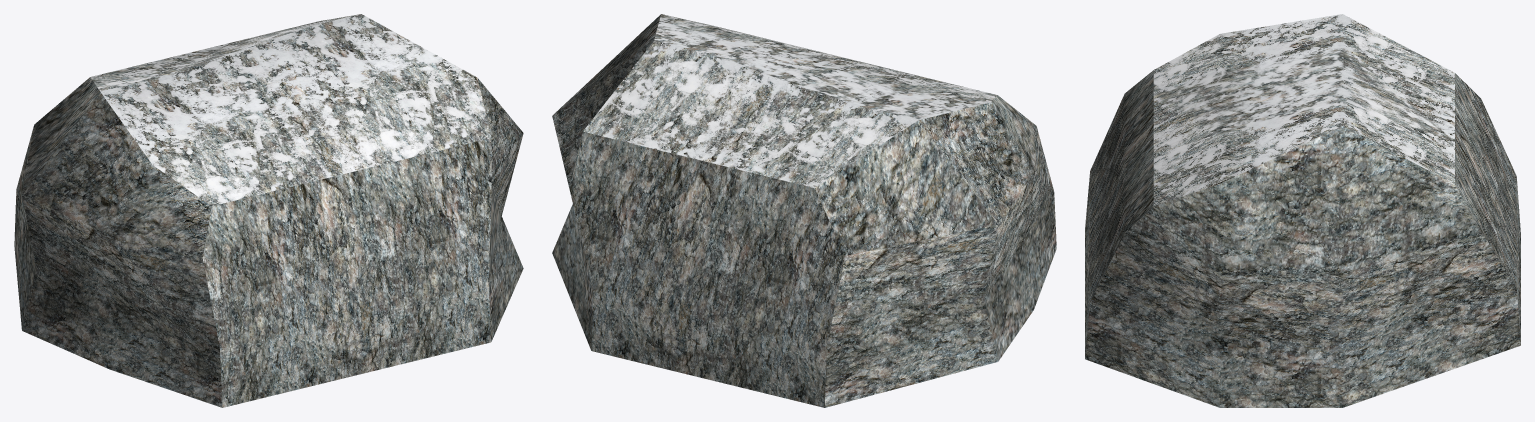
Rendered from rocks-mountain-2.FBX.
The picture shows the model from 3 angles, left to right: view 1: azimuth 30°, elevation 25°; view 2: azimuth 150°, elevation 25°; view 3: azimuth 270°, elevation 25°; orthographic projection.
Parts seen in each view (by area): view 1: Box02; view 2: Box02; view 3: Box02.
Part boxes in pixels (<box>): Box02: <box>14,14,523,407</box>; Box02: <box>552,14,1056,407</box>; Box02: <box>1085,14,1520,407</box>.
Size of the model in its own units: 127 by 109 by 64.42.
